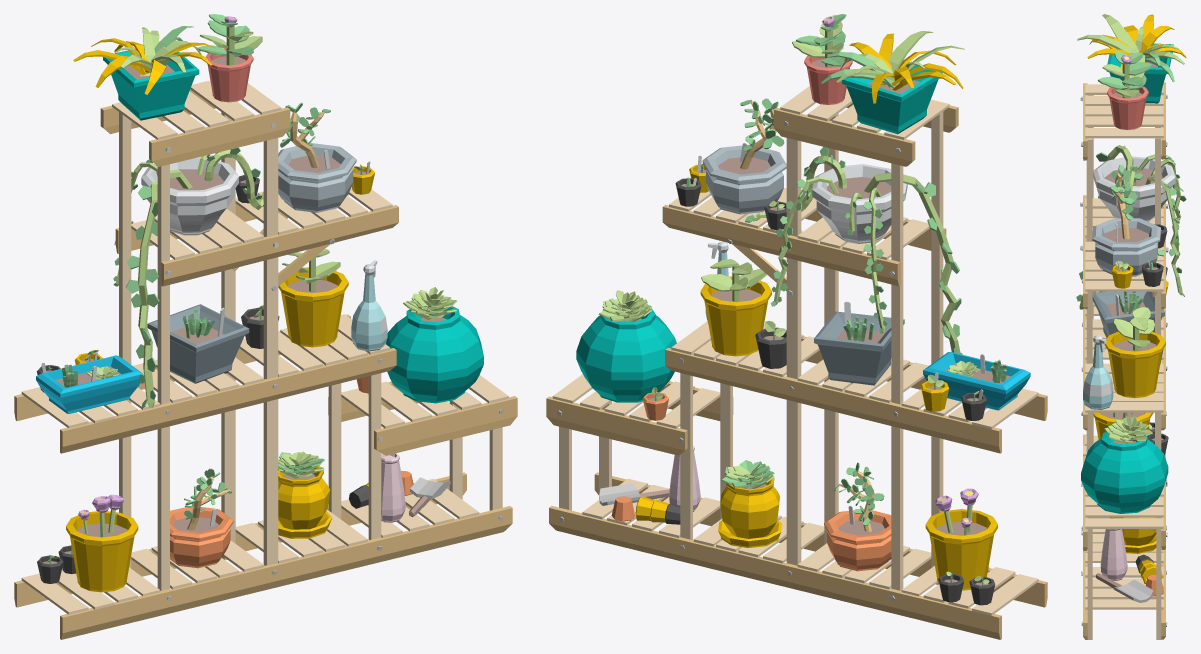
File: rack.glb
The picture shows the model from 3 angles, left to right: view 1: azimuth 30°, elevation 25°; view 2: azimuth 150°, elevation 25°; view 3: azimuth 270°, elevation 25°; orthographic projection. The views are drawn at different scales.
Parts seen in each view (by area): view 1: group_329520873, group_718421555, group_188964254, group_343148839, group_1246536235, group_492750791, group_1796822198, group_190984041, group_681955559, group_1111774705, group_211612252, group_1960316096 (+6 smaller); view 2: group_329520873, group_718421555, group_188964254, group_343148839, group_1796822198, group_1246536235, group_492750791, group_211612252, group_190984041, group_681955559, group_1111774705, group_1960316096 (+9 smaller); view 3: group_329520873, group_718421555, group_1796822198, group_343148839, group_188964254, group_1960316096, group_681955559, group_492750791, group_366088625, group_929991637, group_211612252, group_37634377 (+11 smaller).
Boxes of the visible parts, <box> form: group_329520873: <box>14,81,517,639</box>; group_718421555: <box>386,287,483,403</box>; group_188964254: <box>73,26,215,120</box>; group_343148839: <box>278,102,356,212</box>; group_1246536235: <box>66,494,138,592</box>; group_492750791: <box>147,304,249,383</box>; group_1796822198: <box>278,249,348,347</box>; group_190984041: <box>170,468,233,568</box>; group_681955559: <box>141,156,238,235</box>; group_1111774705: <box>36,355,143,413</box>; group_211612252: <box>278,451,332,538</box>; group_1960316096: <box>198,14,262,102</box>; group_329520873: <box>546,86,1047,639</box>; group_718421555: <box>576,290,676,402</box>; group_188964254: <box>821,31,964,134</box>; group_343148839: <box>702,98,786,214</box>; group_1796822198: <box>700,259,771,356</box>; group_1246536235: <box>925,488,997,590</box>; group_492750791: <box>814,301,904,385</box>; group_211612252: <box>718,460,782,547</box>; group_190984041: <box>824,462,891,571</box>; group_681955559: <box>812,164,907,243</box>; group_1111774705: <box>923,352,1030,410</box>; group_1960316096: <box>792,14,852,104</box>; group_329520873: <box>1080,82,1168,639</box>; group_718421555: <box>1081,416,1168,513</box>; group_1796822198: <box>1104,307,1165,398</box>; group_343148839: <box>1092,164,1160,276</box>; group_188964254: <box>1077,14,1186,103</box>; group_1960316096: <box>1098,50,1152,129</box>; group_681955559: <box>1093,156,1175,221</box>; group_492750791: <box>1092,291,1164,337</box>; group_366088625: <box>1083,335,1113,409</box>; group_929991637: <box>1100,529,1127,580</box>; group_211612252: <box>1109,517,1156,553</box>; group_37634377: <box>1145,177,1184,296</box>.
Bounding box in the file's own units: 184 × 216 × 45.16.
